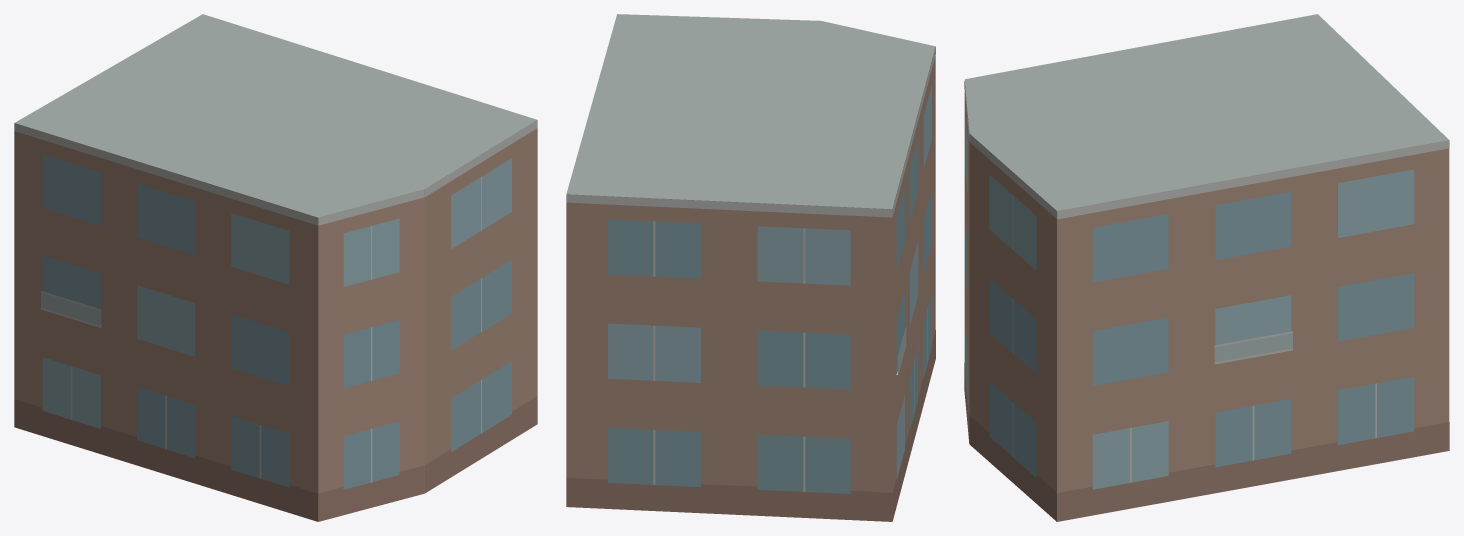
Rendered from survey-upis-32687683.glb.
The picture shows the model from 3 angles, left to right: view 1: azimuth 30°, elevation 25°; view 2: azimuth 150°, elevation 25°; view 3: azimuth 270°, elevation 25°; orthographic projection. The views are drawn at different scales.
Visible parts, largest first — view 1: survey-upis-32687683.tmp; view 2: survey-upis-32687683.tmp; view 3: survey-upis-32687683.tmp.
Part boxes in pixels (<box>): survey-upis-32687683.tmp: <box>14,14,537,521</box>; survey-upis-32687683.tmp: <box>566,14,935,521</box>; survey-upis-32687683.tmp: <box>964,14,1449,521</box>.
Size of the model in its own units: 12.46 by 9.15 by 12.95.
